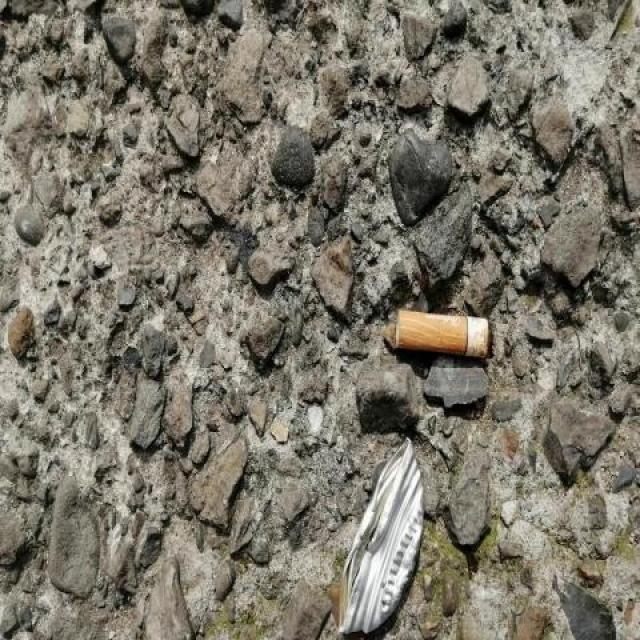non-organic waste: (389, 303, 496, 367)
